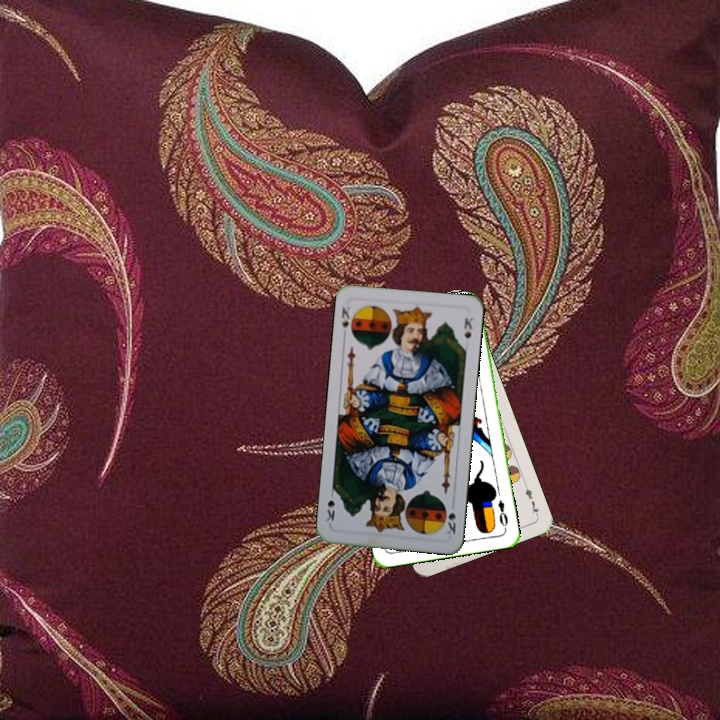E7: (520, 480, 542, 519)
EO: (494, 496, 511, 532)
SK: (337, 303, 357, 340), (443, 509, 458, 537)
